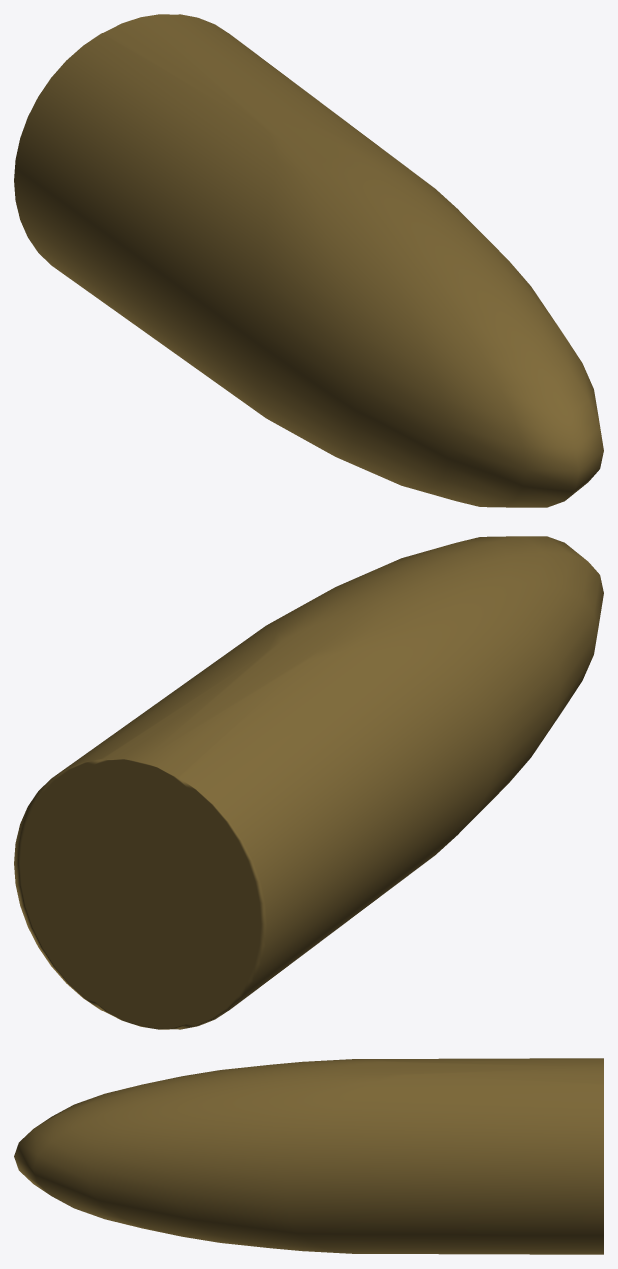
The model's file is Bullet.fbx.
3 renders of one model, top to bottom at view 1: azimuth 30°, elevation 25°; view 2: azimuth 150°, elevation 25°; view 3: azimuth 270°, elevation 25°, orthographic. The views are drawn at different scales.
Parts seen in each view (by area): view 1: pSphere1; view 2: pSphere1; view 3: pSphere1.
Part boxes in pixels (x1,y1,x2,y2): pSphere1: (14,14,603,507); pSphere1: (14,536,603,1029); pSphere1: (14,1058,603,1254).
Size of the model in its own units: 2 by 2 by 6.
